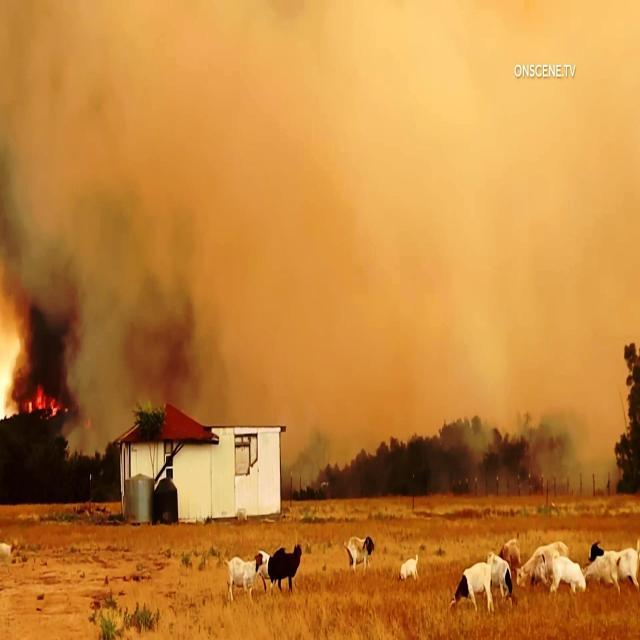Fire: (23, 338, 76, 419)
Smoke: (109, 153, 241, 403)
